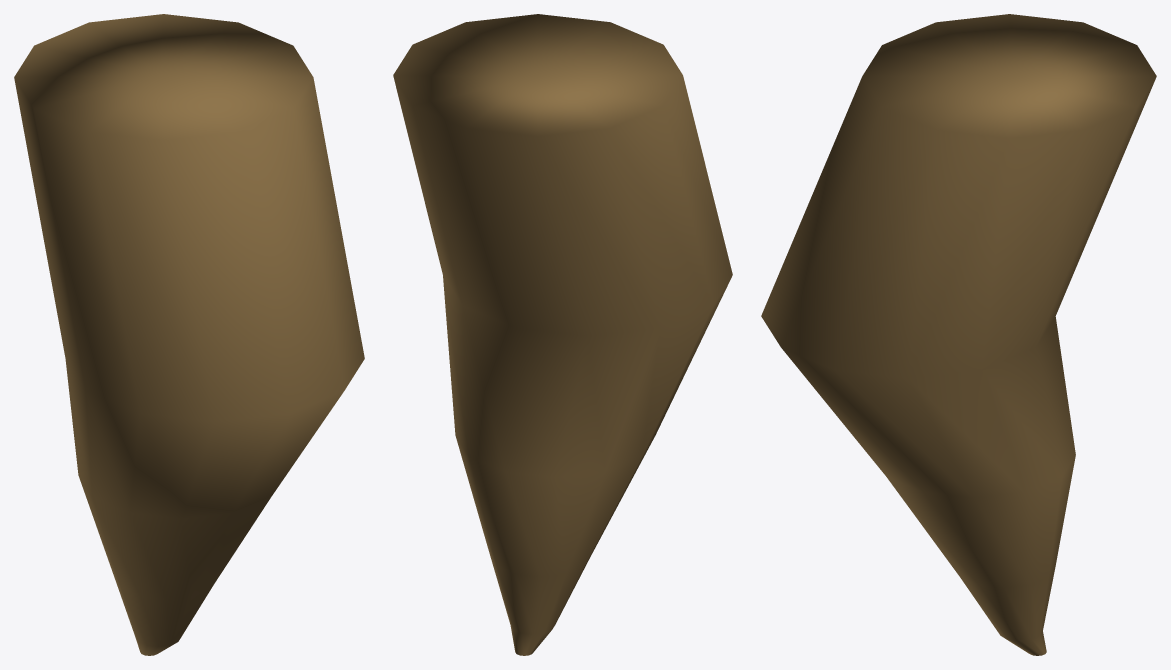
File: uvula.fbx
3 renders of one model, left to right at view 1: azimuth 30°, elevation 25°; view 2: azimuth 150°, elevation 25°; view 3: azimuth 270°, elevation 25°, orthographic. The views are drawn at different scales.
Parts seen in each view (by area): view 1: partedificil1:uvula1; view 2: partedificil1:uvula1; view 3: partedificil1:uvula1.
Part boxes in pixels (x1,y1,x2,y2): partedificil1:uvula1: [14, 14, 364, 655]; partedificil1:uvula1: [393, 14, 732, 655]; partedificil1:uvula1: [761, 14, 1156, 655].
Size of the model in its own units: 124 by 267 by 166.
